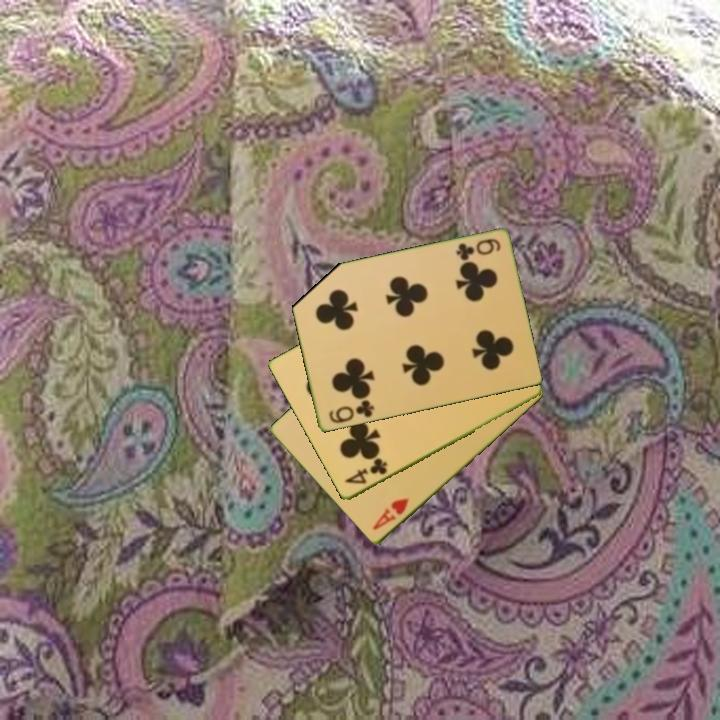4c: (341, 455, 390, 487)
6c: (325, 396, 377, 427), (452, 235, 503, 263)
Ah: (369, 495, 412, 534)
